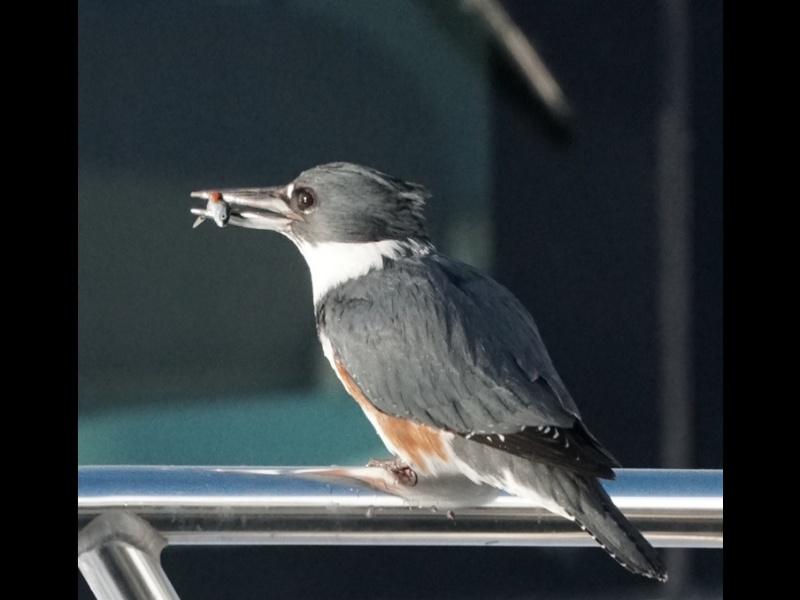kingfisher: (186, 156, 673, 584)
